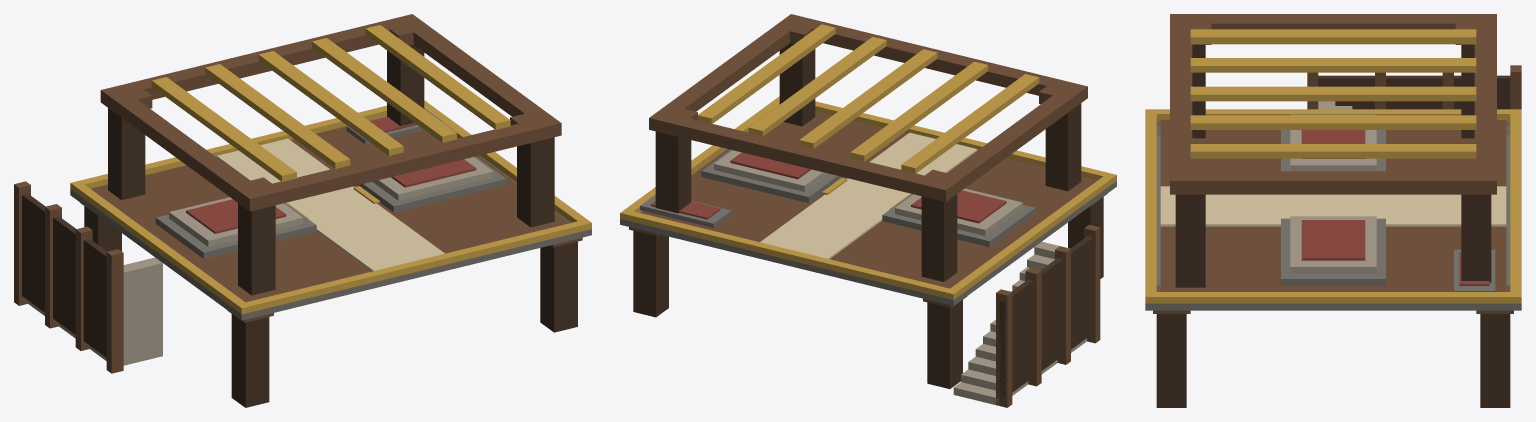
The model's file is KLC_Plot_PlayerBase_Floor03.fbx.
The picture shows the model from 3 angles, left to right: view 1: azimuth 30°, elevation 25°; view 2: azimuth 150°, elevation 25°; view 3: azimuth 270°, elevation 25°; orthographic projection. The views are drawn at different scales.
Visible parts, largest first — view 1: F3_Wood_Deck, F3_Center_Aisle, F3_Stair_OuterRail, F3_Canopy_BackBeam, F3_Back_Edge, F3_Stair_Step_12, F3_Canopy_FrontBeam, F3_Canopy_LeftBeam, F3_Main_Slab, F3_Canopy_RightBeam, F3_Support_2, F3_Canopy_Post_2 (+27 smaller); view 2: F3_Wood_Deck, F3_Center_Aisle, F3_Stair_OuterRail, F3_Canopy_FrontBeam, F3_Front_Edge, F3_Canopy_BackBeam, F3_Main_Slab, F3_Canopy_LeftBeam, F3_Canopy_RightBeam, F3_Canopy_Post_1, F3_Support_1, F3_Support_3 (+30 smaller); view 3: F3_Wood_Deck, F3_Center_Aisle, F3_Canopy_RightBeam, F3_Main_Slab, F3_Canopy_Slat_0, F3_Canopy_Slat_2, F3_Canopy_Slat_1, F3_Canopy_Slat_3, F3_Canopy_Slat_4, F3_Right_Edge, F3_Canopy_LeftBeam, F3_Canopy_BackBeam (+23 smaller).
Boxes of the visible parts, bbox=[...] form: F3_Wood_Deck: bbox=[90, 126, 570, 302]; F3_Center_Aisle: bbox=[216, 138, 444, 271]; F3_Stair_OuterRail: bbox=[22, 193, 106, 357]; F3_Canopy_BackBeam: bbox=[240, 115, 561, 211]; F3_Back_Edge: bbox=[236, 219, 591, 314]; F3_Stair_Step_12: bbox=[123, 257, 162, 365]; F3_Canopy_FrontBeam: bbox=[100, 15, 422, 99]; F3_Canopy_LeftBeam: bbox=[112, 93, 256, 201]; F3_Main_Slab: bbox=[70, 155, 591, 320]; F3_Canopy_RightBeam: bbox=[406, 22, 550, 119]; F3_Support_2: bbox=[231, 314, 269, 407]; F3_Canopy_Post_2: bbox=[238, 203, 275, 295]; F3_Wood_Deck: bbox=[641, 111, 1097, 288]; F3_Center_Aisle: bbox=[760, 132, 977, 258]; F3_Stair_OuterRail: bbox=[999, 236, 1092, 398]; F3_Canopy_FrontBeam: bbox=[649, 111, 955, 201]; F3_Front_Edge: bbox=[620, 209, 958, 299]; F3_Canopy_BackBeam: bbox=[782, 14, 1087, 104]; F3_Main_Slab: bbox=[620, 149, 1116, 305]; F3_Canopy_LeftBeam: bbox=[939, 94, 1077, 191]; F3_Canopy_RightBeam: bbox=[659, 21, 796, 113]; F3_Canopy_Post_1: bbox=[921, 194, 957, 281]; F3_Support_1: bbox=[927, 300, 962, 388]; F3_Support_3: bbox=[633, 231, 668, 317]; F3_Wood_Deck: bbox=[1160, 120, 1506, 291]; F3_Center_Aisle: bbox=[1160, 186, 1506, 226]; F3_Canopy_RightBeam: bbox=[1192, 171, 1474, 194]; F3_Main_Slab: bbox=[1145, 121, 1521, 310]; F3_Canopy_Slat_0: bbox=[1190, 29, 1476, 44]; F3_Canopy_Slat_2: bbox=[1190, 86, 1476, 101]; F3_Canopy_Slat_1: bbox=[1190, 58, 1476, 72]; F3_Canopy_Slat_3: bbox=[1190, 115, 1476, 129]; F3_Canopy_Slat_4: bbox=[1190, 144, 1476, 158]; F3_Right_Edge: bbox=[1156, 292, 1510, 303]; F3_Canopy_LeftBeam: bbox=[1192, 14, 1474, 29]; F3_Canopy_BackBeam: bbox=[1170, 14, 1192, 194].
Bounding box in the file's own units: 1712 × 838 × 1250.
Materials: 8 (8 with a texture image).
